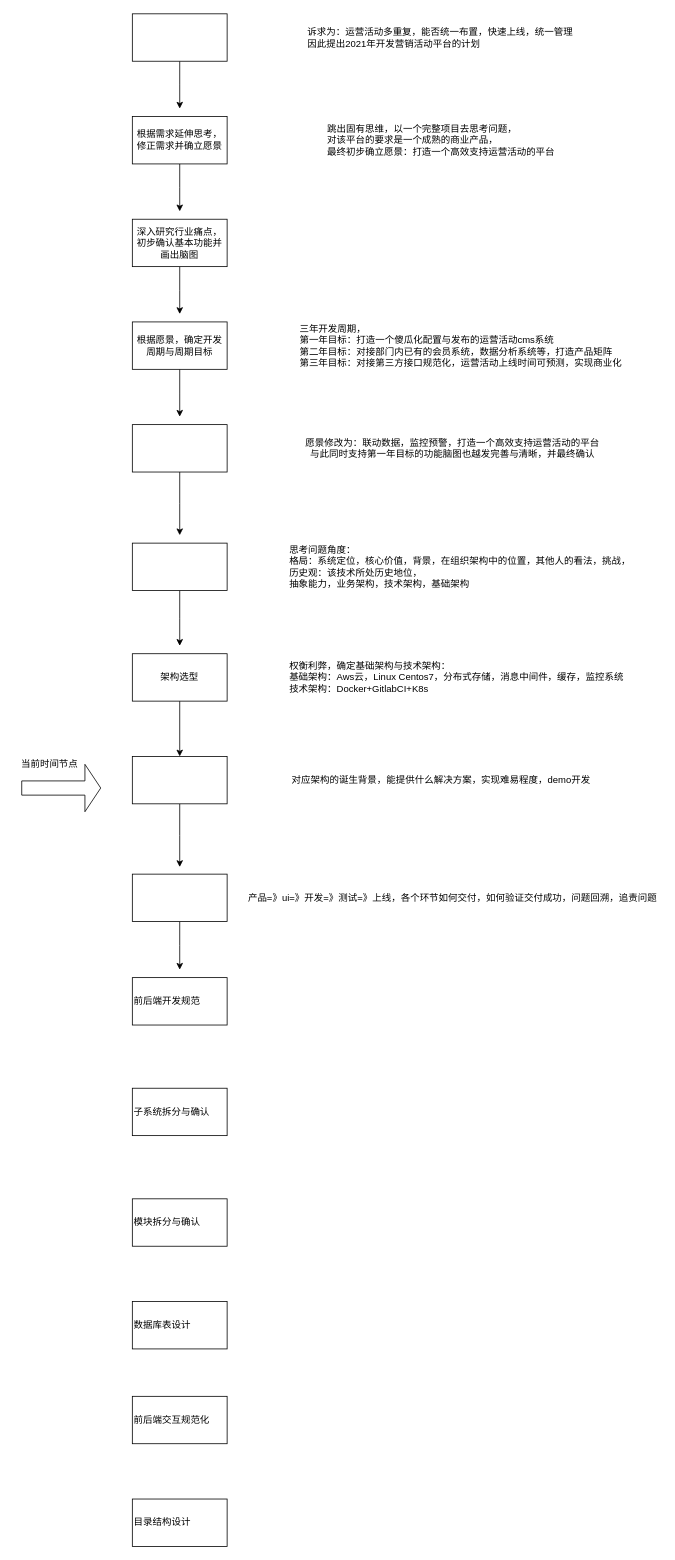
This 675x1560 diagram has some shape labels left out. Each missing label, with the centre of its shape:
与leader以及其他产品及相关人员开会来修正产品功能与获得支持: the point at 179,448
制定配合与交付流程规范: the point at 179,897
技术预热: the point at 179,780
进入软件开发流程: the point at 179,566
需求提出: the point at 179,37
